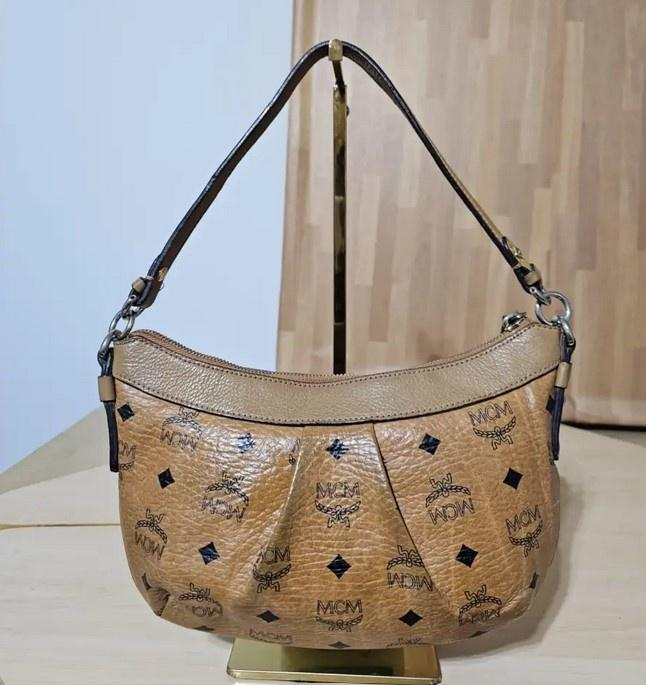MCM: (107, 365, 568, 661)
